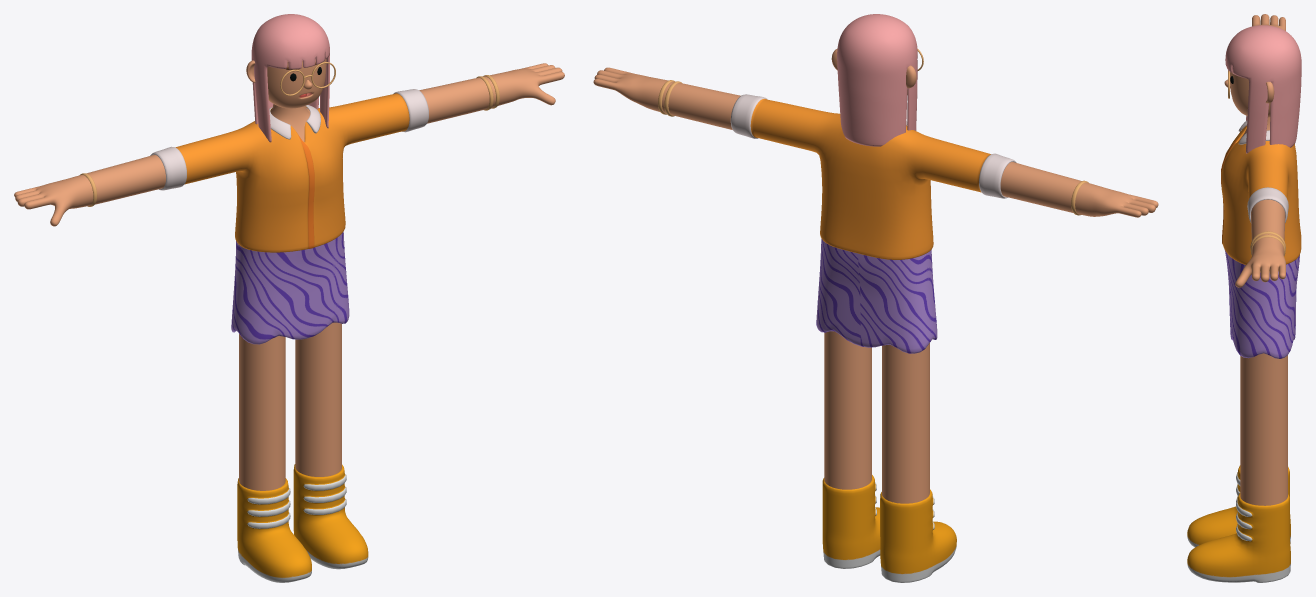
File: GIRL 3.fbx
3 renders of one model, left to right at view 1: azimuth 30°, elevation 25°; view 2: azimuth 150°, elevation 25°; view 3: azimuth 270°, elevation 25°, orthographic. The views are drawn at different scales.
Visible parts, largest first — view 1: GIRL_BODY_WITH SKIRT.002, GIRL 3_SHIRT, GIRL 3_SKIRT, GIRL_3_SHOES.R, GIRL_3_SHOES.L, GIRL 3_HAIR; view 2: GIRL_BODY_WITH SKIRT.002, GIRL 3_SHIRT, GIRL 3_SKIRT, GIRL 3_HAIR, GIRL_3_SHOES.R, GIRL_3_SHOES.L; view 3: GIRL_BODY_WITH SKIRT.002, GIRL 3_SHIRT, GIRL 3_HAIR, GIRL_3_SHOES.L, GIRL 3_SKIRT, GIRL_3_SHOES.R, GIRL 3_WRIST BANDS.
Part boxes in pixels (left/top/right/bottom): GIRL_BODY_WITH SKIRT.002: left=14, top=59, right=564, bottom=490; GIRL 3_SHIRT: left=150, top=89, right=428, bottom=252; GIRL 3_SKIRT: left=231, top=232, right=349, bottom=344; GIRL_3_SHOES.R: left=237, top=478, right=311, bottom=582; GIRL_3_SHOES.L: left=293, top=464, right=368, bottom=569; GIRL 3_HAIR: left=251, top=14, right=329, bottom=142; GIRL_BODY_WITH SKIRT.002: left=593, top=49, right=1158, bottom=503; GIRL 3_SHIRT: left=730, top=94, right=1016, bottom=259; GIRL 3_SKIRT: left=816, top=238, right=937, bottom=353; GIRL 3_HAIR: left=837, top=14, right=917, bottom=146; GIRL_3_SHOES.R: left=880, top=489, right=956, bottom=582; GIRL_3_SHOES.L: left=822, top=475, right=880, bottom=568; GIRL_BODY_WITH SKIRT.002: left=1224, top=14, right=1287, bottom=505; GIRL 3_SHIRT: left=1221, top=120, right=1301, bottom=264; GIRL 3_HAIR: left=1225, top=25, right=1301, bottom=153; GIRL_3_SHOES.L: left=1187, top=493, right=1290, bottom=582; GIRL 3_SKIRT: left=1225, top=250, right=1299, bottom=358; GIRL_3_SHOES.R: left=1187, top=465, right=1290, bottom=547; GIRL 3_WRIST BANDS: left=1250, top=231, right=1285, bottom=256.
Bounding box in the file's own units: 205 × 192 × 37.58.
11 materials, 8 textured.
